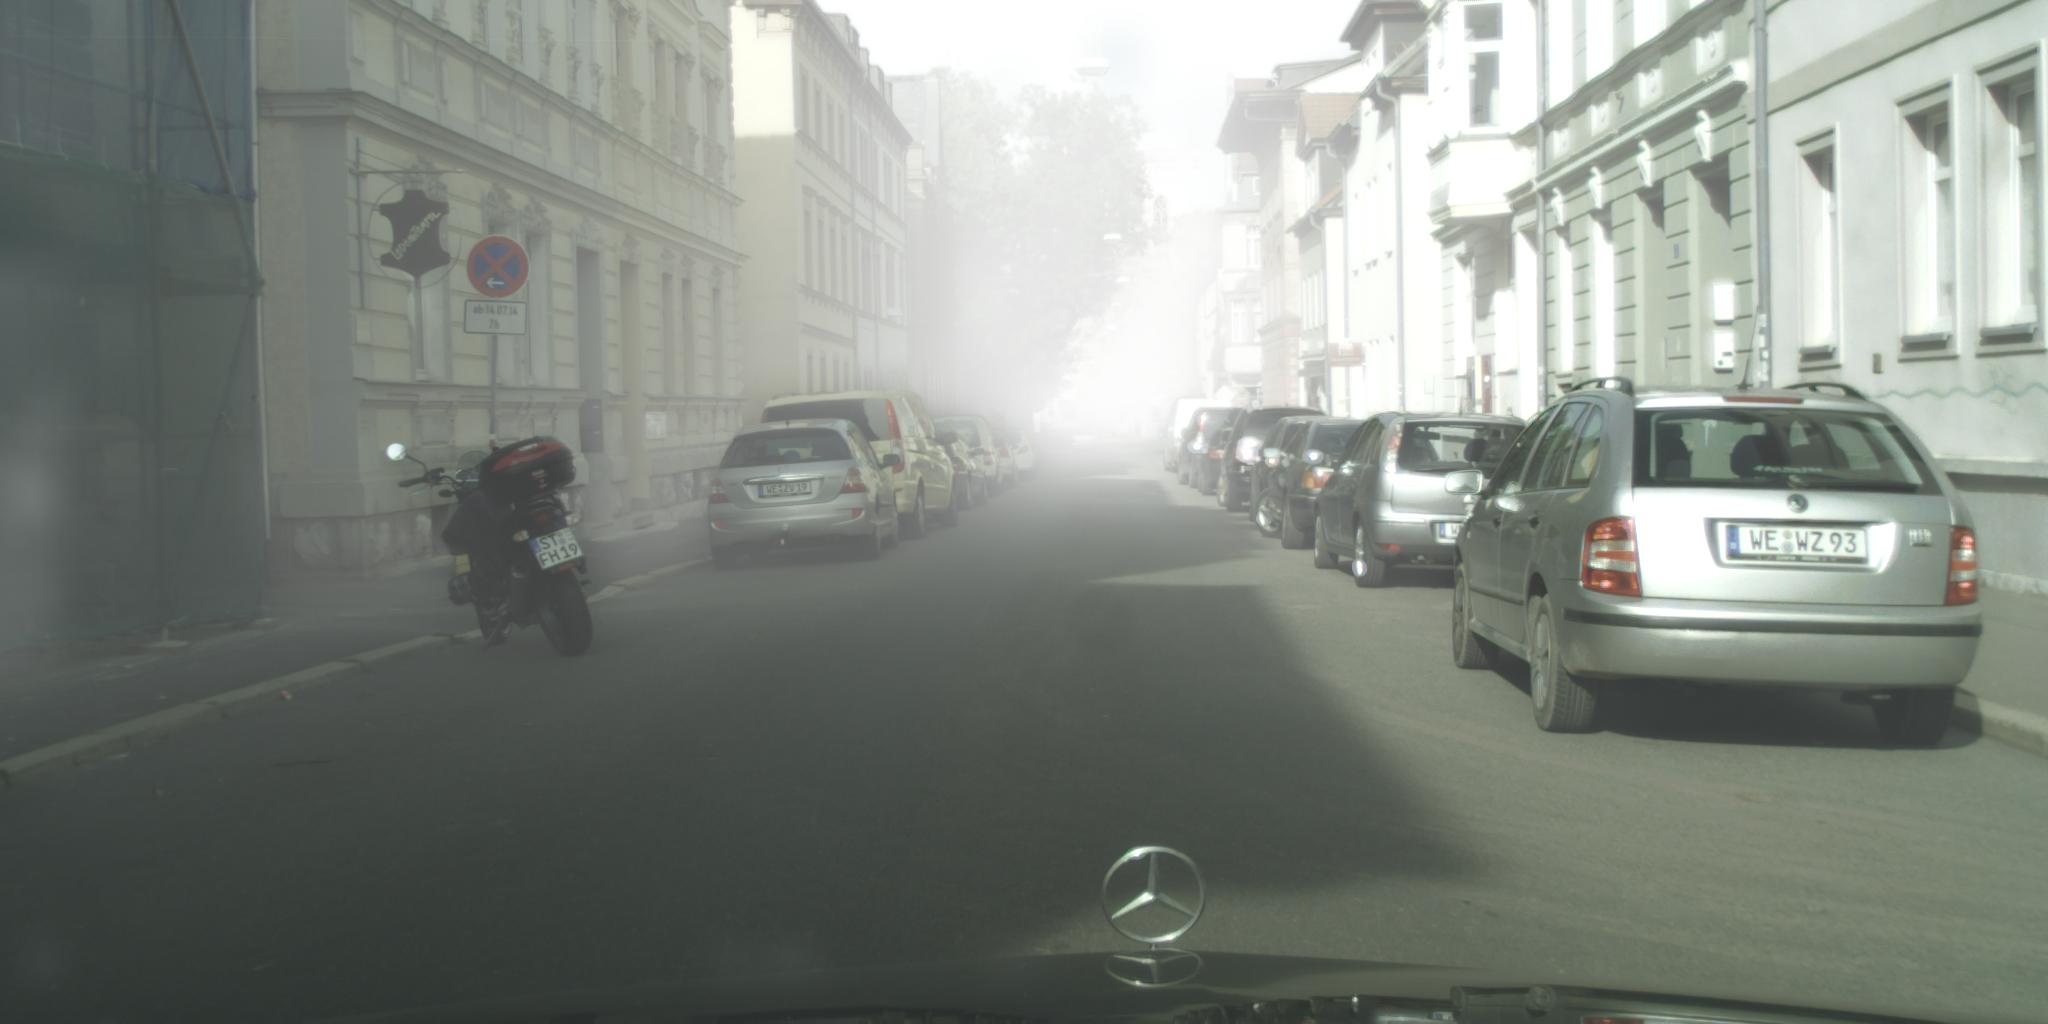car: (1445, 306, 1984, 746), (1311, 411, 1536, 590), (761, 387, 961, 543), (707, 421, 903, 573), (1254, 421, 1377, 552), (1217, 400, 1332, 515), (1251, 417, 1347, 524), (1176, 409, 1256, 491), (929, 415, 1006, 500), (927, 424, 991, 515), (1159, 401, 1233, 475), (1196, 428, 1240, 499), (995, 430, 1044, 483), (990, 431, 1021, 492), (1061, 428, 1102, 458), (1040, 430, 1072, 457)
motorcycle: (387, 439, 596, 658)
